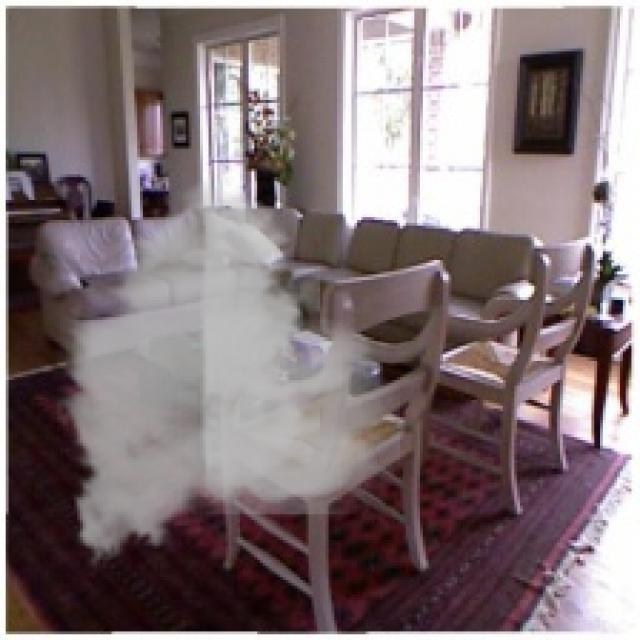Smoke: (51, 168, 400, 578)
